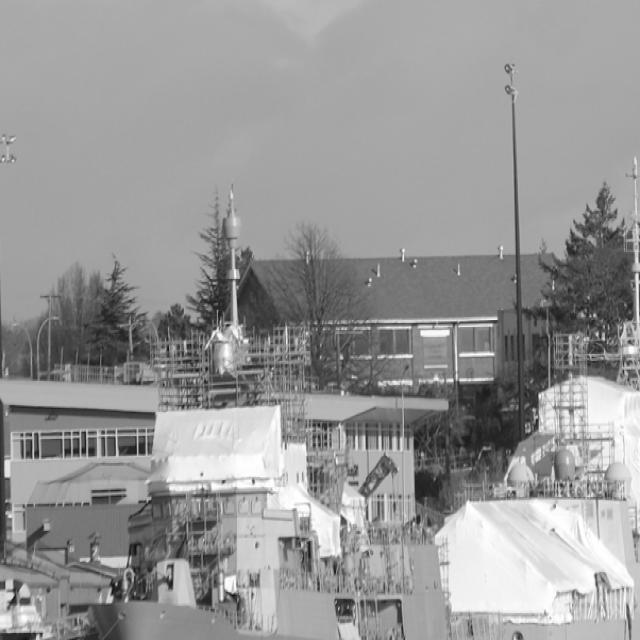Fragata: (29, 158, 505, 640)
